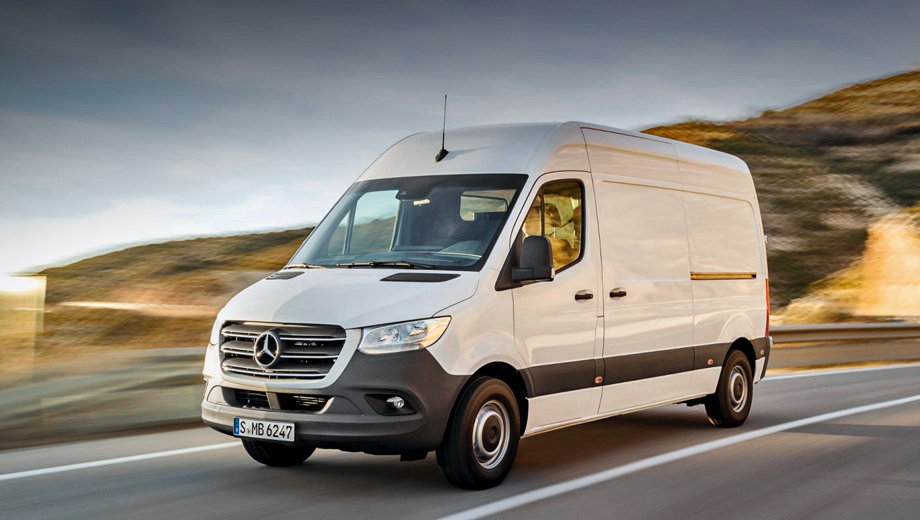van: (202, 117, 773, 492)
